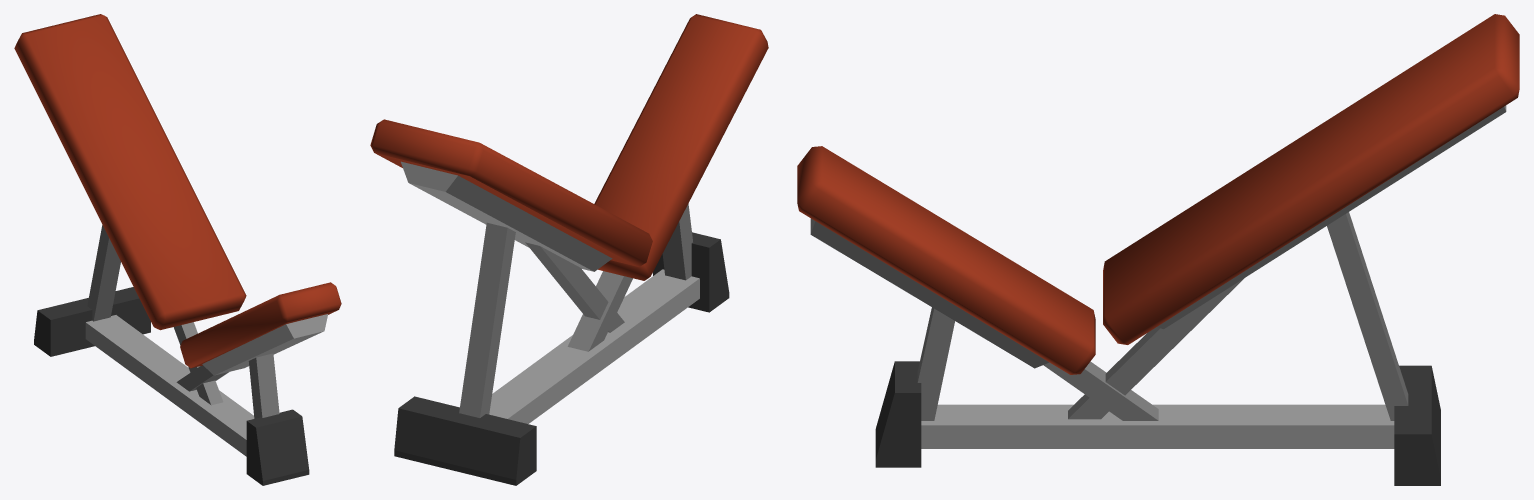
The model's file is bench-d.glb.
3 views of the same model, side by side, from view 1: azimuth 30°, elevation 25°; view 2: azimuth 150°, elevation 25°; view 3: azimuth 270°, elevation 25° (orthographic). The views are drawn at different scales.
Visible parts, largest first — view 1: Bench_D; view 2: Bench_D; view 3: Bench_D.
Boxes of the visible parts, <box> form: Bench_D: <box>14,14,341,485</box>; Bench_D: <box>370,14,768,485</box>; Bench_D: <box>797,14,1519,485</box>.
Size of the model in its own units: 40.28 by 113 by 180.
Materials: 1 (1 with a texture image).
